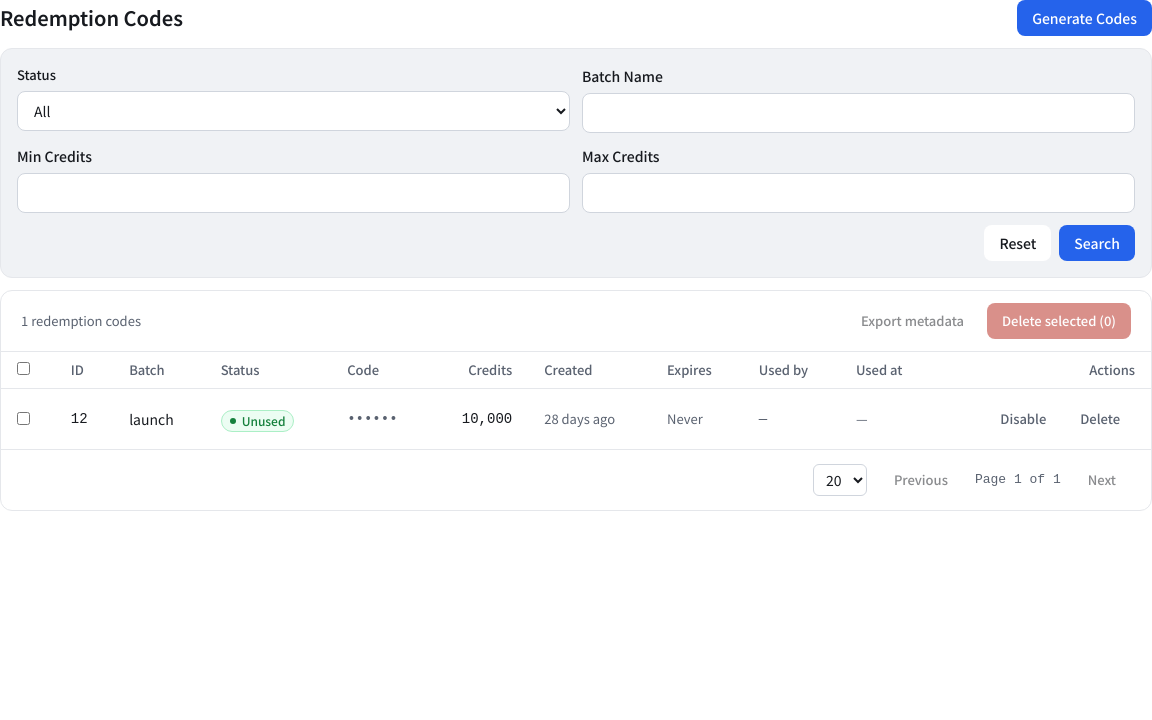
RedemptionCodesPage › creates codes, shows the one-time plaintext result and copies it
Expected: the text "launch" is shown, [113, 388, 205, 449]
Click the button "Generate Codes" at [1085, 18], box [1017, 0, 1151, 36]
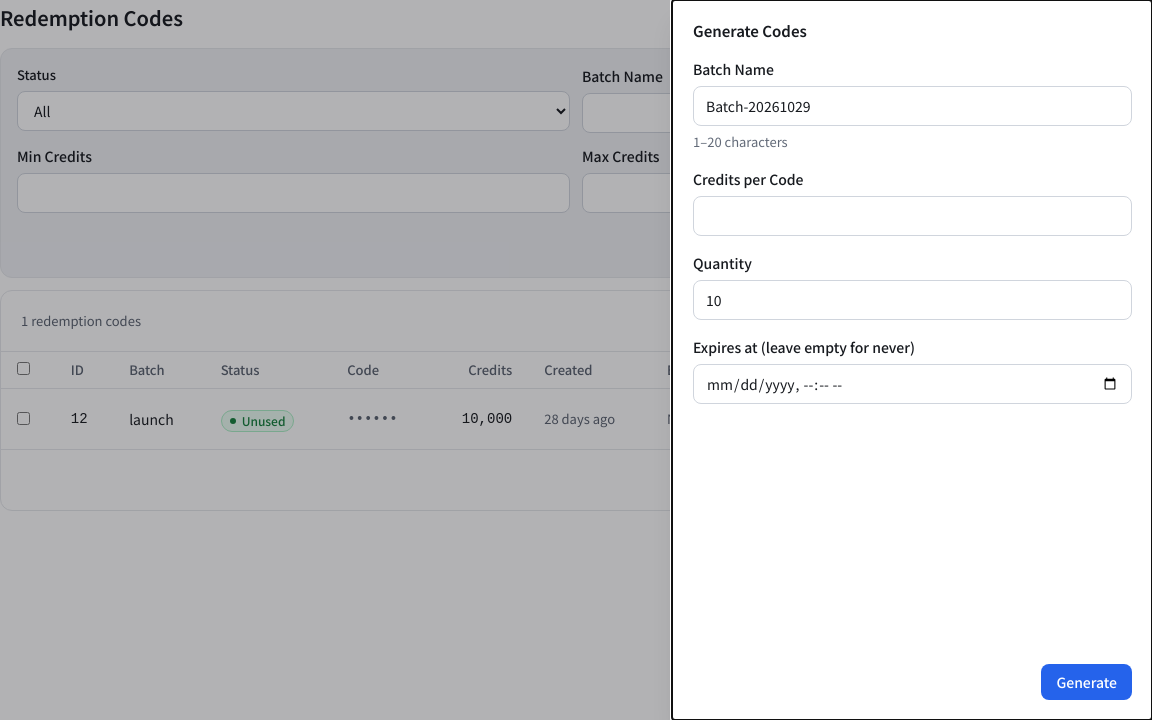
Type "100" into the field labelled "Credits per Code" at [912, 216], box [693, 196, 1132, 236]
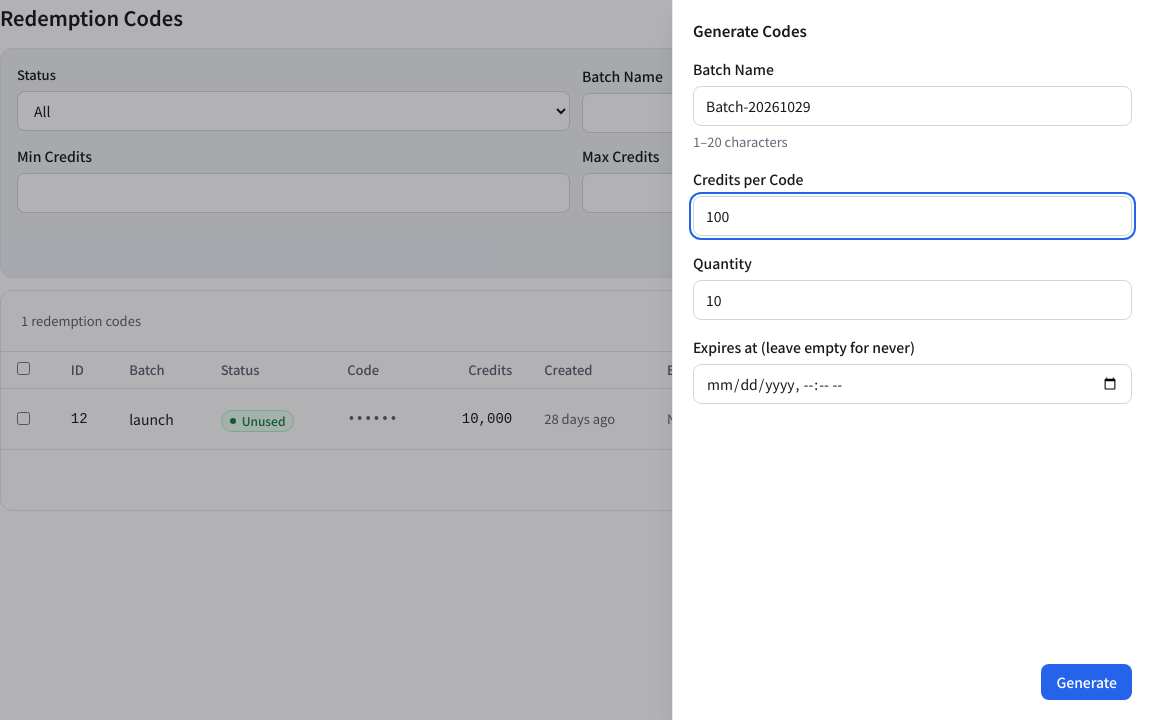
Click the button "Generate" at [1087, 682], box [1041, 664, 1132, 700]
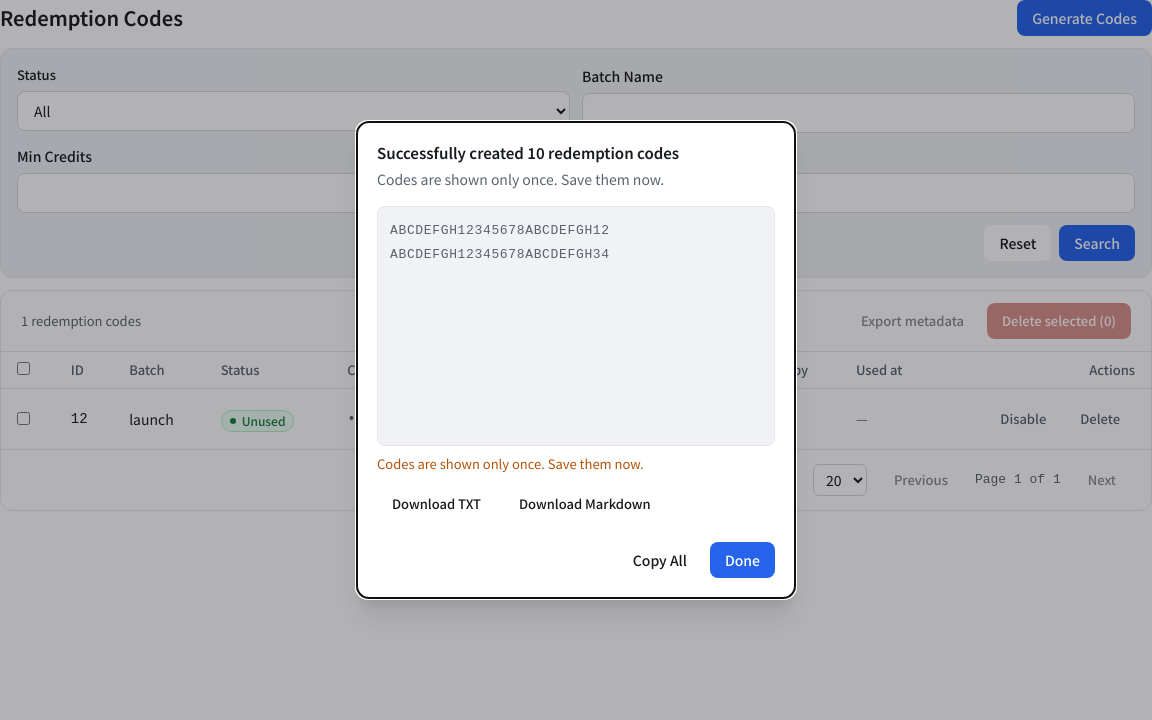
Result: the list item "ABCDEFGH12345678ABCDEFGH12" is shown at [390, 223, 610, 238]
Result: the text "Codes are shown only once. Save them now." below "Successfully created 10 redemption codes" is shown at [377, 169, 664, 189]
Click the button "Copy All" at [660, 560], box [618, 542, 702, 578]
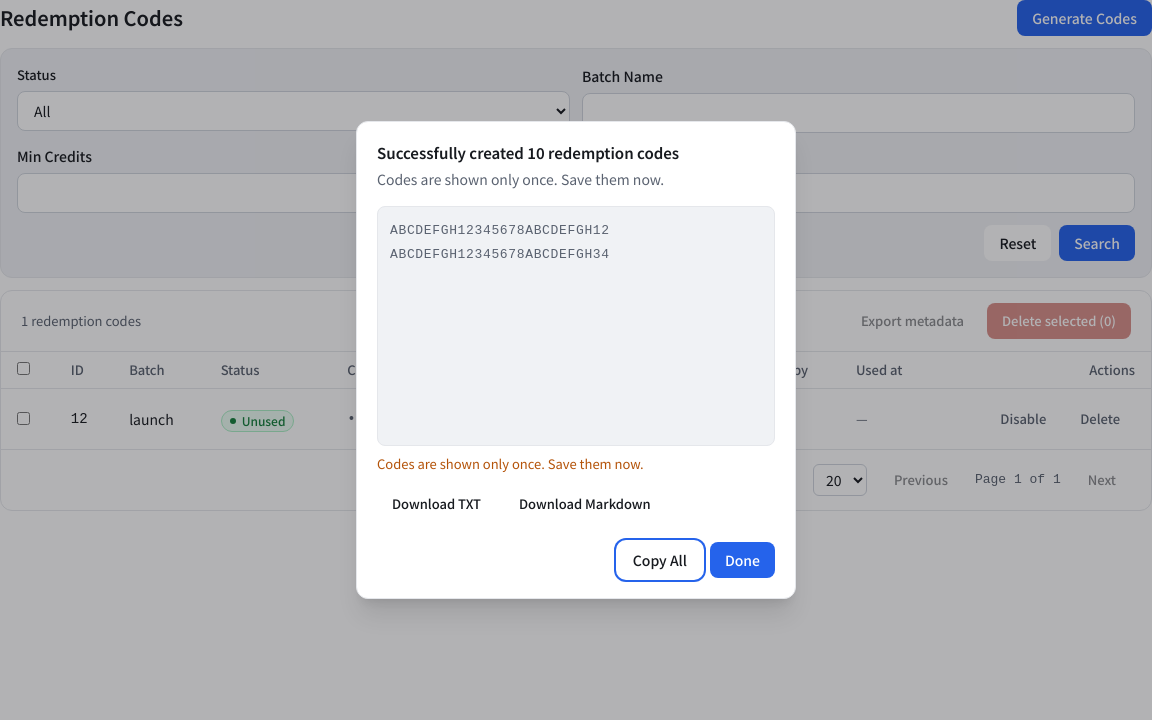
Click the button "Done" at [742, 560], box [710, 542, 775, 578]
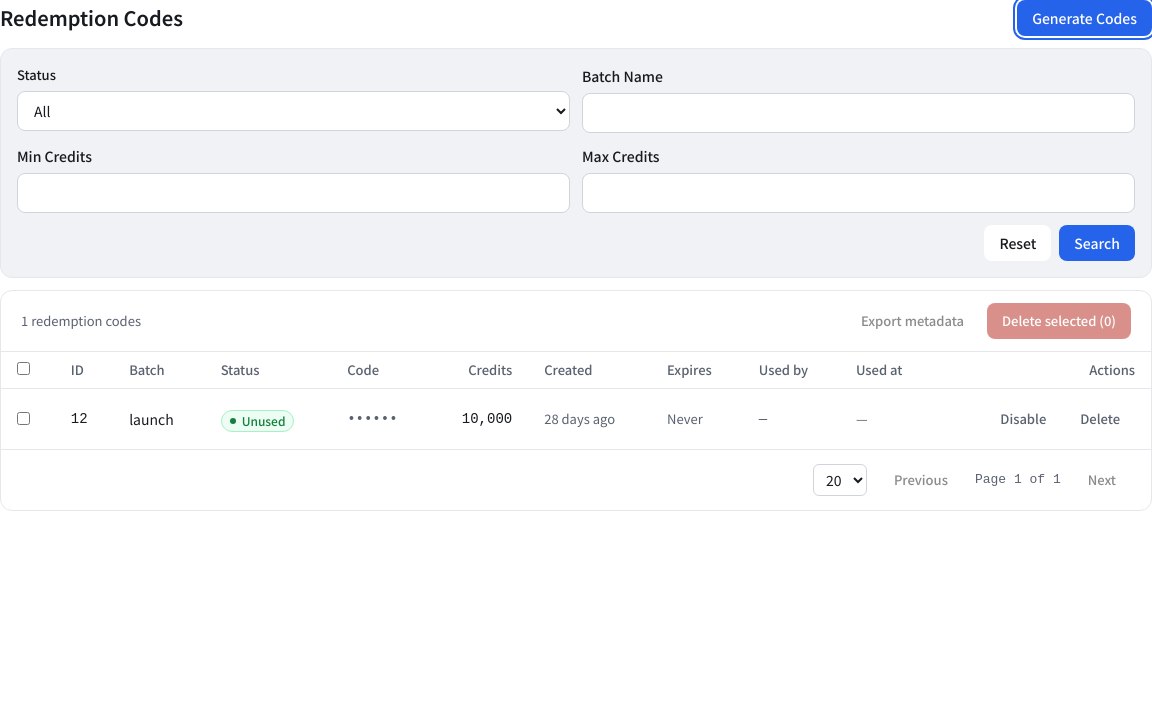
Result: the list item "ABCDEFGH12345678ABCDEFGH12" is gone
